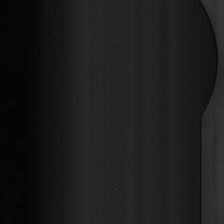crescent_gap: (194, 0, 219, 123)
